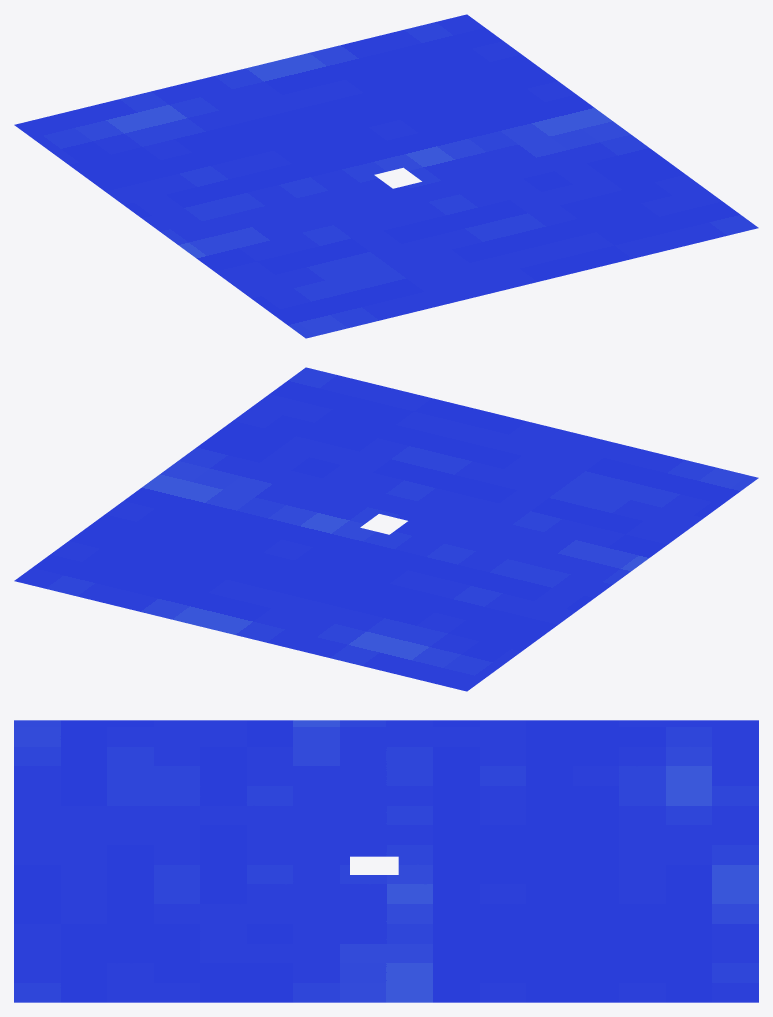
Rendered from LargePlane.fbx.
The picture shows the model from 3 angles, top to bottom: view 1: azimuth 30°, elevation 25°; view 2: azimuth 150°, elevation 25°; view 3: azimuth 270°, elevation 25°; orthographic projection. The views are drawn at different scales.
Parts seen in each view (by area): view 1: LargePlane; view 2: LargePlane; view 3: LargePlane.
Boxes of the visible parts, x1=… form: LargePlane: x1=14, y1=14, x2=758, y2=338; LargePlane: x1=14, y1=367, x2=758, y2=691; LargePlane: x1=14, y1=720, x2=758, y2=1002.
Bounding box in the file's own units: 410661 × 0.0391 × 458340.
